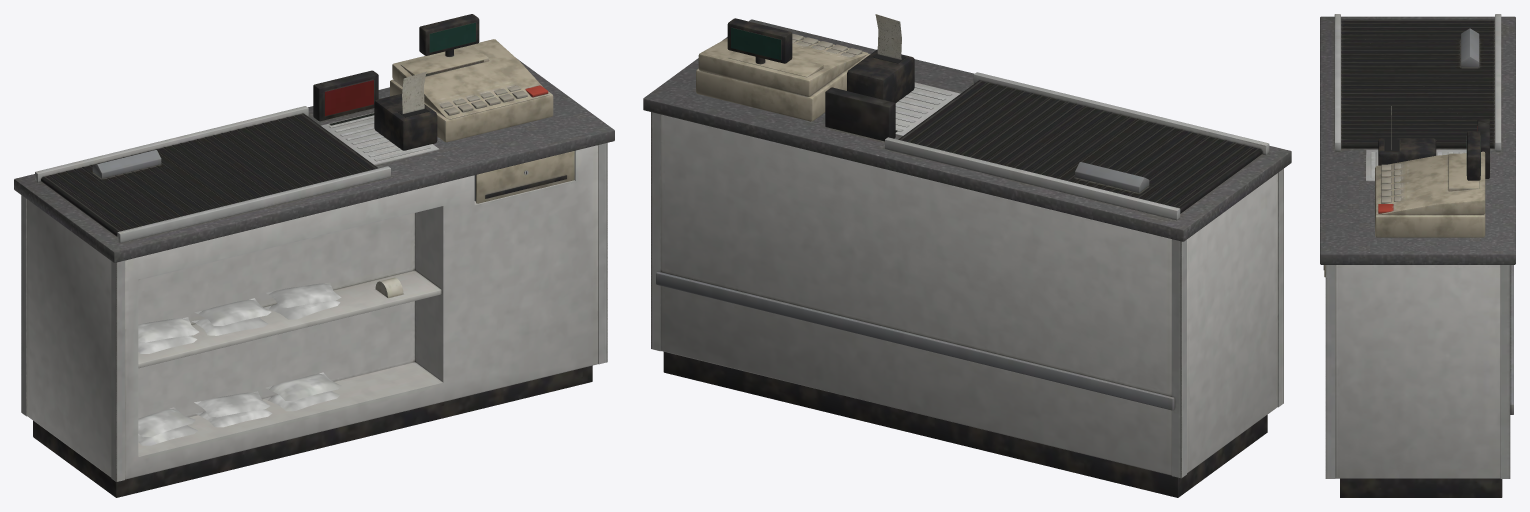
File: balcao_caixa.glb
3 renders of one model, left to right at view 1: azimuth 30°, elevation 25°; view 2: azimuth 150°, elevation 25°; view 3: azimuth 270°, elevation 25°, orthographic. The views are drawn at different scales.
Visible parts, largest first — view 1: balcao, registradora, gaveta_dinheiro; view 2: balcao, registradora; view 3: balcao, registradora.
Part boxes in pixels (left/top/right/bottom): balcao: left=14, top=59, right=614, bottom=497; registradora: left=374, top=14, right=553, bottom=150; gaveta_dinheiro: left=474, top=151, right=574, bottom=203; balcao: left=643, top=19, right=1291, bottom=497; registradora: left=696, top=14, right=914, bottom=121; balcao: left=1320, top=14, right=1515, bottom=497; registradora: left=1375, top=106, right=1485, bottom=237.
Size of the model in its own units: 1.84 by 1.15 by 0.64.
Materials: 2 (2 with a texture image).
